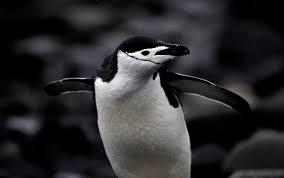chinstrap: (38, 29, 257, 178)
